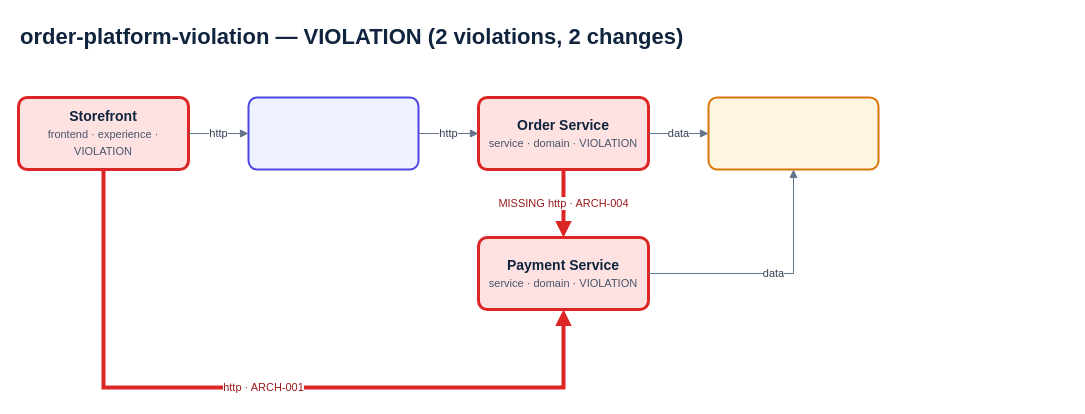
The diagram is 1085 pixels wide and 414 high, and some of its shapes have lost their labels. Each missing label, with the centre of its shape:
"API Gateway gateway · edge" belongs at point 333,133.
"PostgreSQL database · data" belongs at point 793,133.
